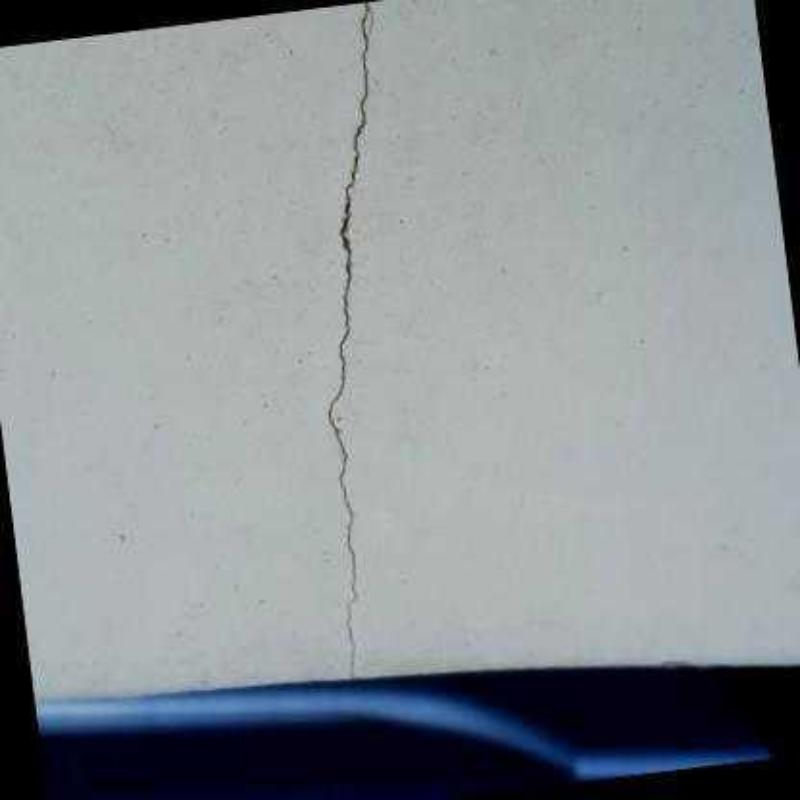crack: (329, 3, 369, 677), (367, 10, 375, 40)
